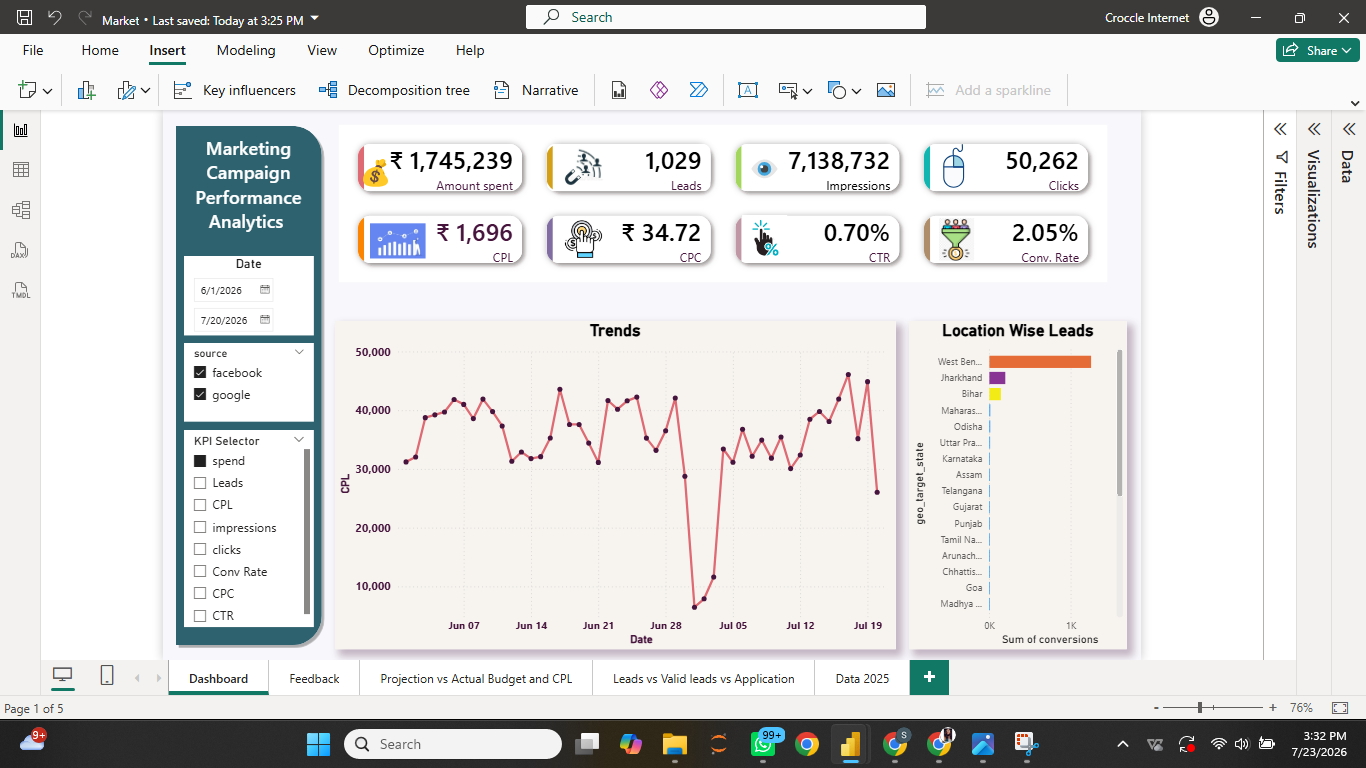

What the dashboard file says about the page in this screenshot:
{"tool":"powerbi","page":{"name":" Dashboard","canvas":[1280,720],"ordinal":0},"visuals":[{"type":"lineChart","title":" Trends","fields":{"Y":["[all] NSHM- New (3).Amount Spent","[all] NSHM- New (3).Leads","[all] NSHM- New (3).CPL combine","[all] NSHM- New (3).Total Impressions","[all] NSHM- New (3).Total Clicks","[all] NSHM- New (3).Con Rate","[all] NSHM- New (3).CPC","[all] NSHM- New (3).CTR"],"Category":["[all] NSHM- New (3).date.Variation.Date Hierarchy.Month"]},"box":[224.3,276.6,732.2,429.4],"z":0},{"type":"clusteredBarChart","title":"Location Wise Leads","fields":{"Category":["[google_ads] Location-google-nshm.geo_target_state"],"Y":["Sum([google_ads] Location-google-nshm.conversions)"]},"box":[976.2,276.2,285,430],"z":1000},{"type":"shape","box":[10,13.8,203.8,692.5],"z":2000},{"type":"cardVisual","fields":{"Data":["Sum([all] NSHM- New (3).spend)","[all] NSHM- New (3).Total","Sum([all] NSHM- New (3).impressions)","Sum([all] NSHM- New (3).clicks)","[all] NSHM- New (3).CPL combine","[all] NSHM- New (3).CPC","[all] NSHM- New (3).CTR","[all] NSHM- New (3).Con Rate"]},"box":[224.6,14.4,1016.6,216],"z":3000},{"type":"slicer","title":"Date","fields":{"Values":["[all] NSHM- New (3).date"]},"box":[27.5,201.6,170.2,104.7],"z":4000},{"type":"slicer","fields":{"Values":["[all] NSHM- New (3).source"]},"box":[27.5,320.7,170.2,102.1],"z":5000},{"type":"slicer","fields":{"Values":["KPI Selector.KPI Selector"]},"box":[26.2,432,170.2,257.9],"z":6000},{"type":"textbox","box":[10.1,27.4,203,138.2],"z":7000},{"type":"image","box":[761.8,57.6,51.8,38.9],"z":8000},{"type":"image","box":[986.4,44.6,96.5,57.6],"z":9000},{"type":"image","box":[517,44.6,64.8,57.6],"z":10000},{"type":"image","box":[270.7,123.8,73.4,93.6],"z":11000},{"type":"image","box":[517,141.1,64.8,60.5],"z":12000},{"type":"image","box":[750.2,136.8,74.9,60.5],"z":13000},{"type":"image","box":[995,141.1,87.8,56.2],"z":14000},{"type":"image","box":[249.1,63.4,59,38.9],"z":15000}]}

Visuals, with their boxes on the page's 1280x720 design canvas (x1, y1, x2, y2). These are canvas units, not pixel positions in the 1366x768 screenshot, which may show the page scaled, cropped or inside an application window:
" Trends" lineChart: left=224, top=277, right=956, bottom=706
"Location Wise Leads" clusteredBarChart: left=976, top=276, right=1261, bottom=706
shape: left=10, top=14, right=214, bottom=706
cardVisual - Sum([all] NSHM- New (3).spend) x [all] NSHM- New (3).Total: left=225, top=14, right=1241, bottom=230
"Date" slicer: left=28, top=202, right=198, bottom=306
slicer - [all] NSHM- New (3).source: left=28, top=321, right=198, bottom=423
slicer - KPI Selector.KPI Selector: left=26, top=432, right=196, bottom=690
textbox: left=10, top=27, right=213, bottom=166
image: left=762, top=58, right=814, bottom=96
image: left=986, top=45, right=1083, bottom=102
image: left=517, top=45, right=582, bottom=102
image: left=271, top=124, right=344, bottom=217
image: left=517, top=141, right=582, bottom=202
image: left=750, top=137, right=825, bottom=197
image: left=995, top=141, right=1083, bottom=197
image: left=249, top=63, right=308, bottom=102
